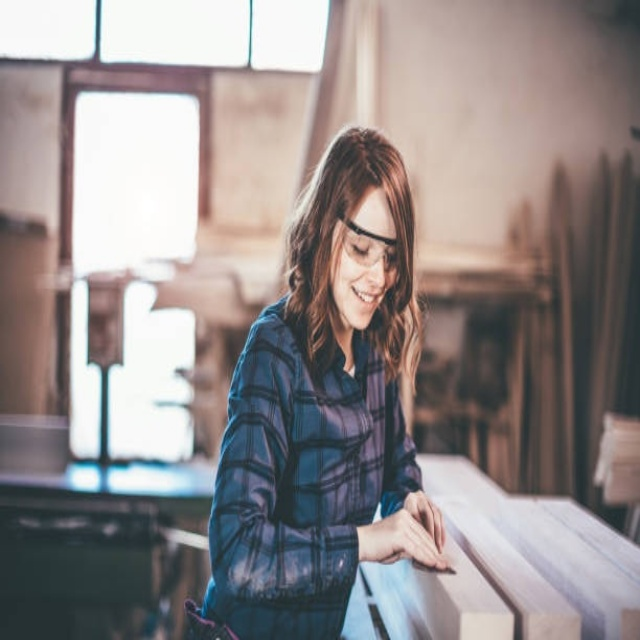Gafas: (339, 214, 399, 272)
Sin_guantes: (388, 486, 448, 573)
Sin_mascara: (347, 281, 376, 328)
